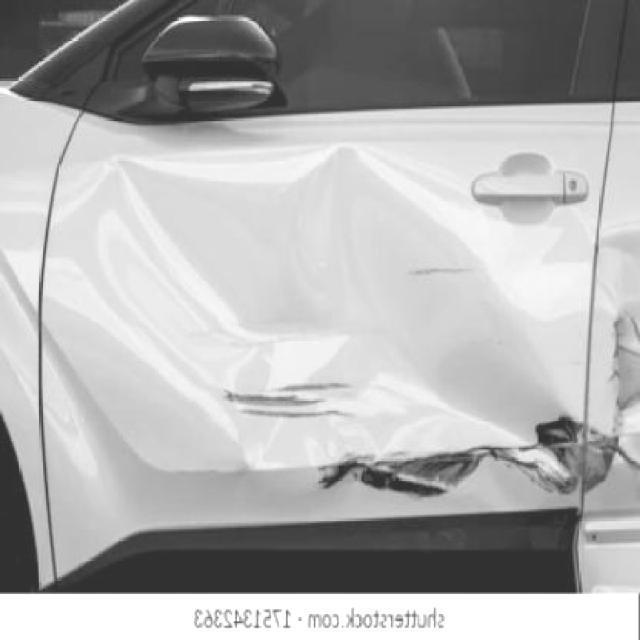minor: (402, 265, 469, 282)
moderate: (62, 154, 562, 471), (500, 418, 618, 492), (205, 372, 357, 422)
severe: (318, 452, 486, 497)
